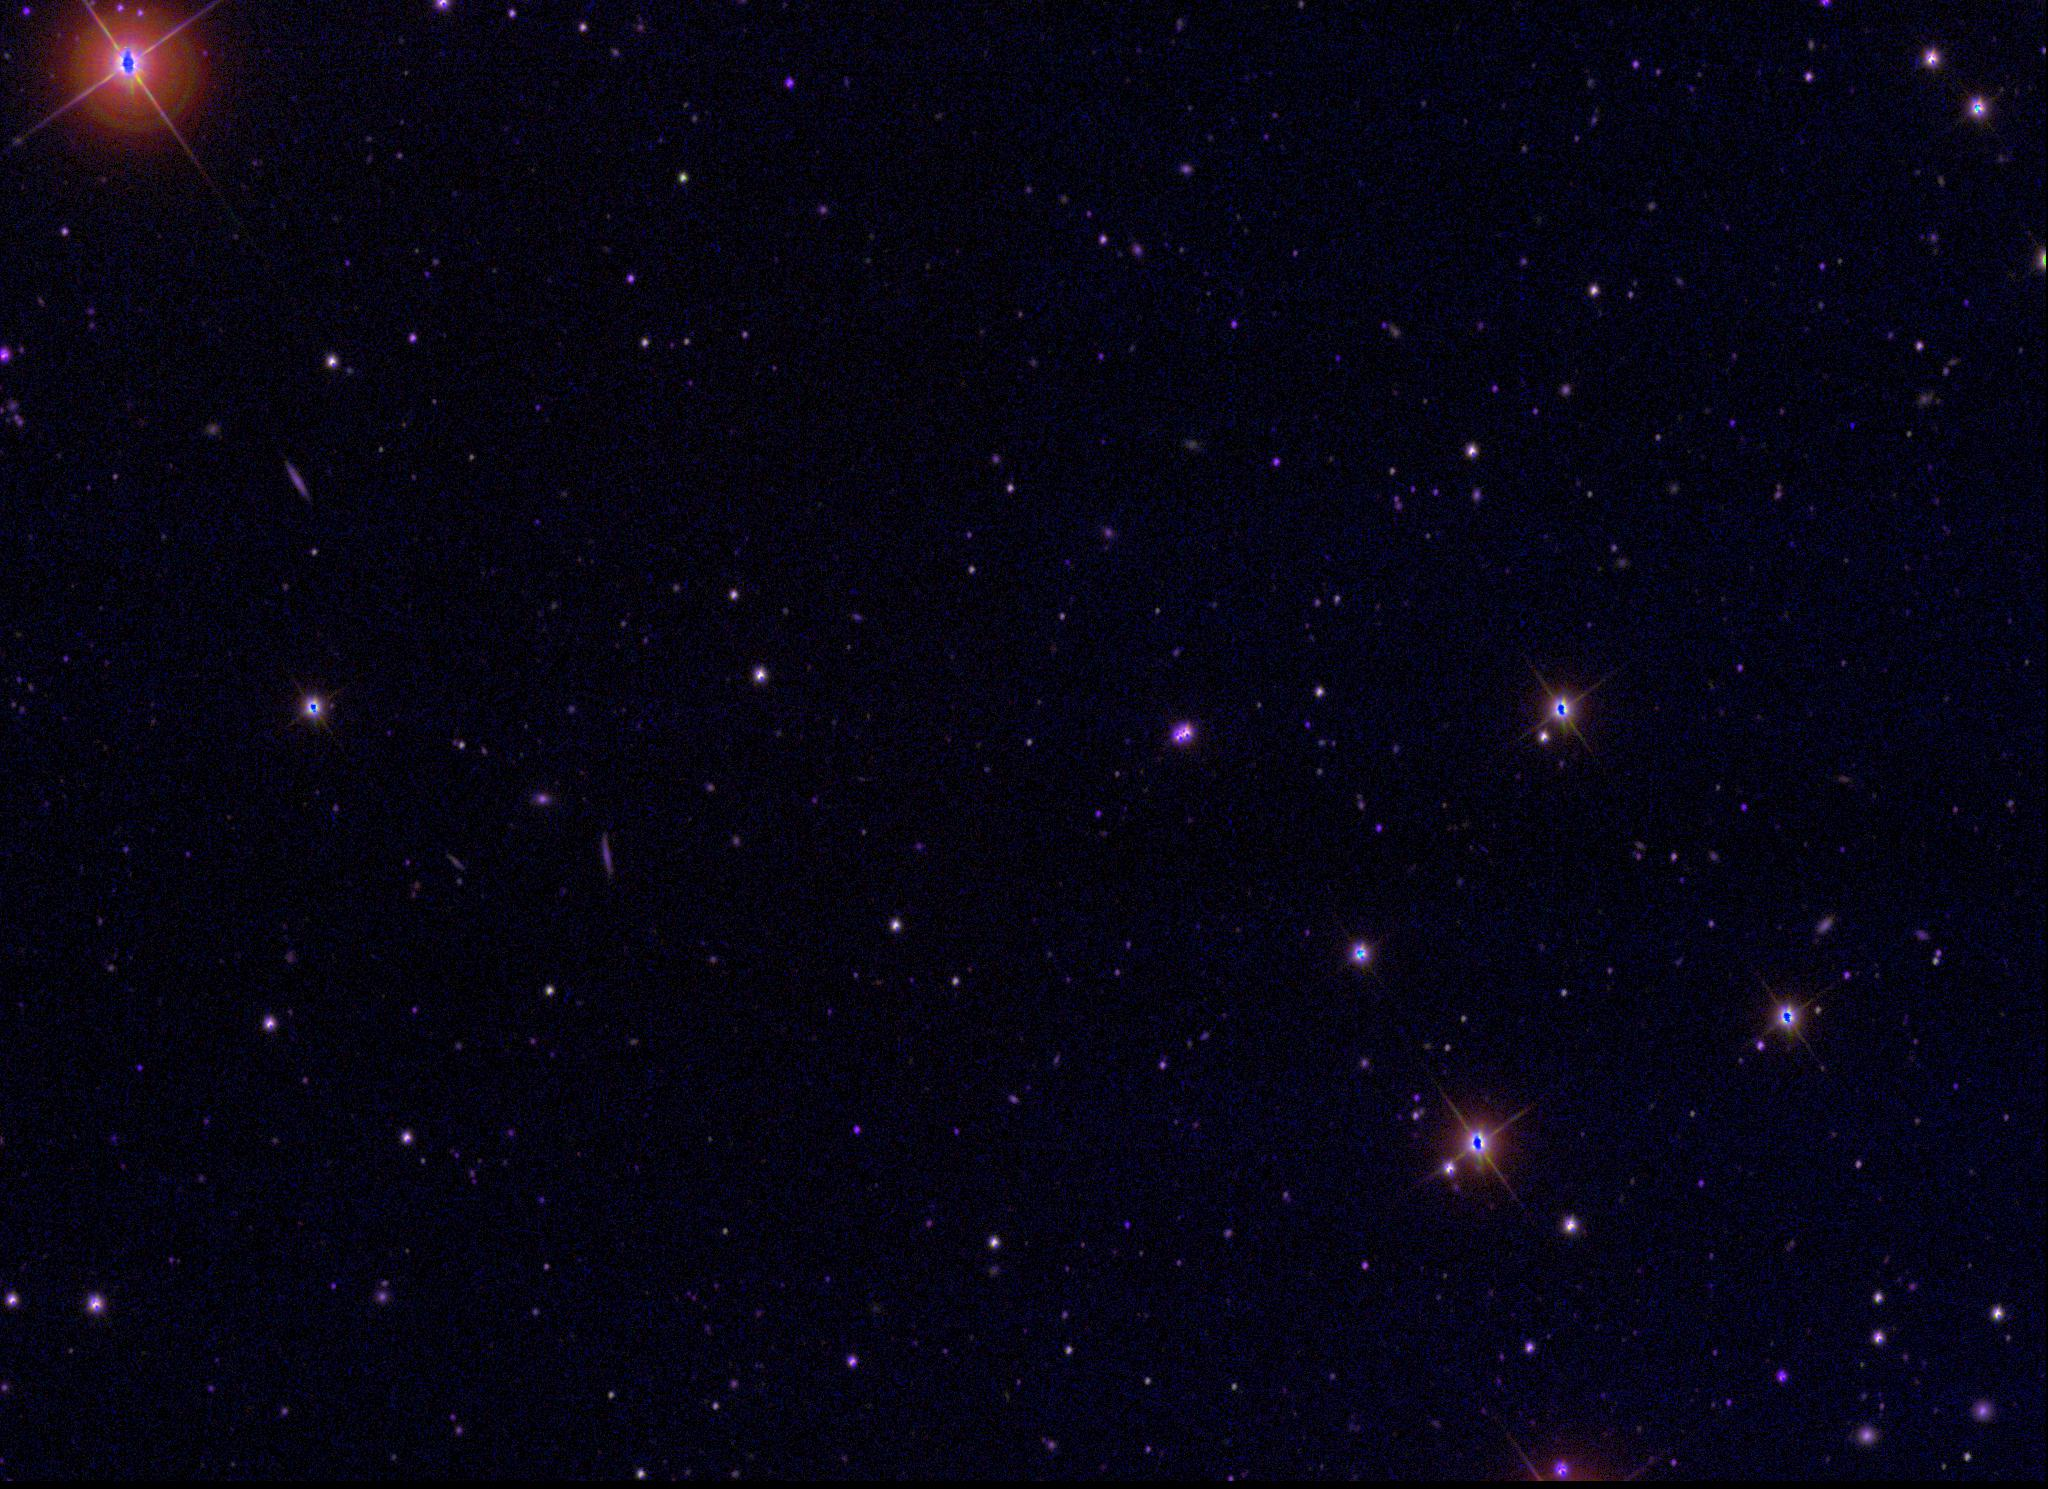L: (1846, 418, 1860, 433)
